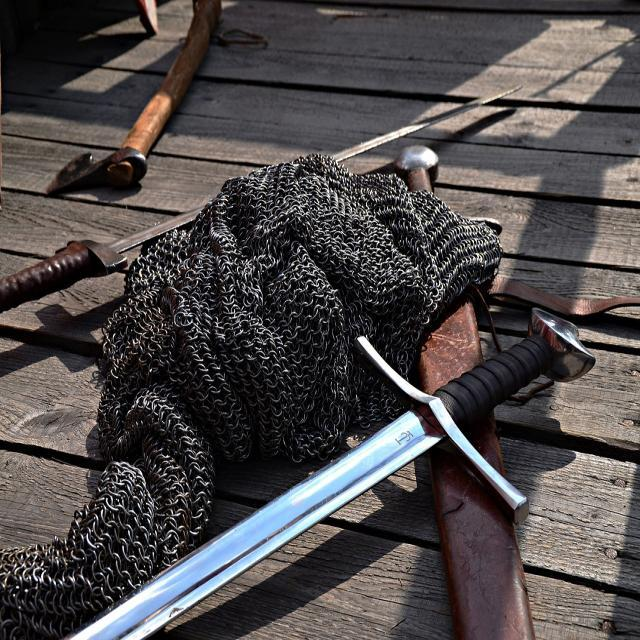Axe: (46, 0, 221, 194)
Knife: (65, 309, 595, 639), (0, 208, 202, 312), (430, 450, 535, 639), (332, 89, 515, 162), (418, 301, 482, 393), (465, 416, 502, 472), (395, 146, 438, 191)
